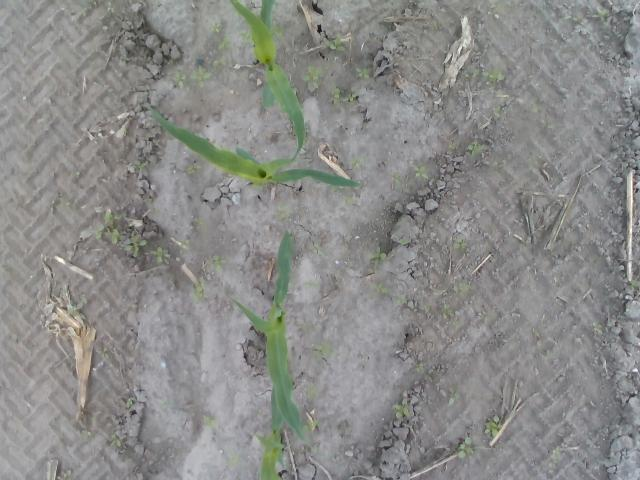Maize: (147, 101, 358, 192), (231, 229, 316, 450), (227, 0, 308, 163), (256, 386, 286, 480)
Weeds: (94, 207, 120, 244), (462, 69, 506, 82), (300, 62, 321, 89), (270, 202, 294, 222), (312, 342, 338, 360), (192, 64, 210, 90), (125, 238, 148, 258), (48, 200, 76, 216), (392, 398, 412, 420), (456, 435, 474, 459), (452, 278, 473, 297), (483, 414, 499, 438), (368, 246, 387, 266), (328, 80, 342, 106), (191, 278, 204, 302), (367, 282, 389, 296), (174, 69, 188, 91), (326, 35, 344, 52), (448, 385, 462, 406), (466, 141, 483, 158), (210, 254, 226, 272), (304, 385, 320, 401), (184, 162, 202, 176), (239, 30, 254, 46), (306, 240, 321, 256), (110, 434, 127, 448), (271, 24, 285, 40), (414, 166, 430, 180), (208, 57, 225, 70), (303, 418, 318, 432), (151, 246, 167, 259), (302, 278, 322, 288), (561, 13, 579, 24), (218, 34, 232, 48), (78, 0, 90, 16), (352, 158, 368, 170), (202, 416, 217, 428), (56, 469, 72, 480), (441, 302, 450, 321), (551, 446, 560, 464), (356, 67, 369, 79), (414, 362, 426, 374), (178, 239, 189, 252), (454, 239, 467, 250), (395, 294, 408, 305), (134, 160, 146, 171), (628, 279, 640, 290), (492, 105, 502, 118), (100, 348, 110, 360), (592, 322, 602, 334), (210, 22, 221, 32), (390, 174, 401, 184), (598, 8, 609, 18), (228, 455, 240, 464), (344, 94, 356, 103), (422, 304, 432, 314), (125, 398, 134, 409), (125, 222, 137, 230), (192, 216, 203, 224), (448, 141, 457, 150), (72, 304, 81, 313), (342, 196, 352, 204), (398, 239, 408, 247)
